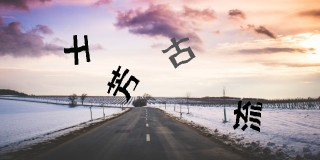千: (61, 33, 91, 66)
古: (161, 37, 196, 67)
流: (232, 100, 264, 134)
芳: (105, 65, 141, 102)
